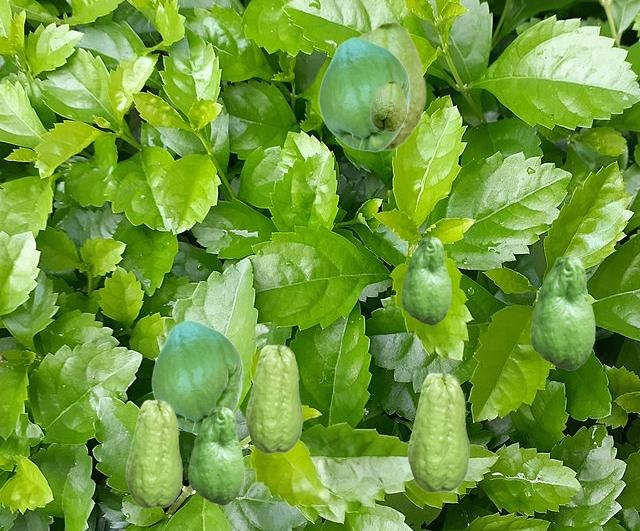sayote: (151, 320, 242, 434), (318, 37, 409, 151), (358, 20, 426, 150), (407, 372, 469, 492), (530, 255, 594, 369), (125, 399, 182, 508), (245, 344, 302, 453), (188, 406, 243, 504), (401, 236, 450, 324), (370, 80, 406, 131)
